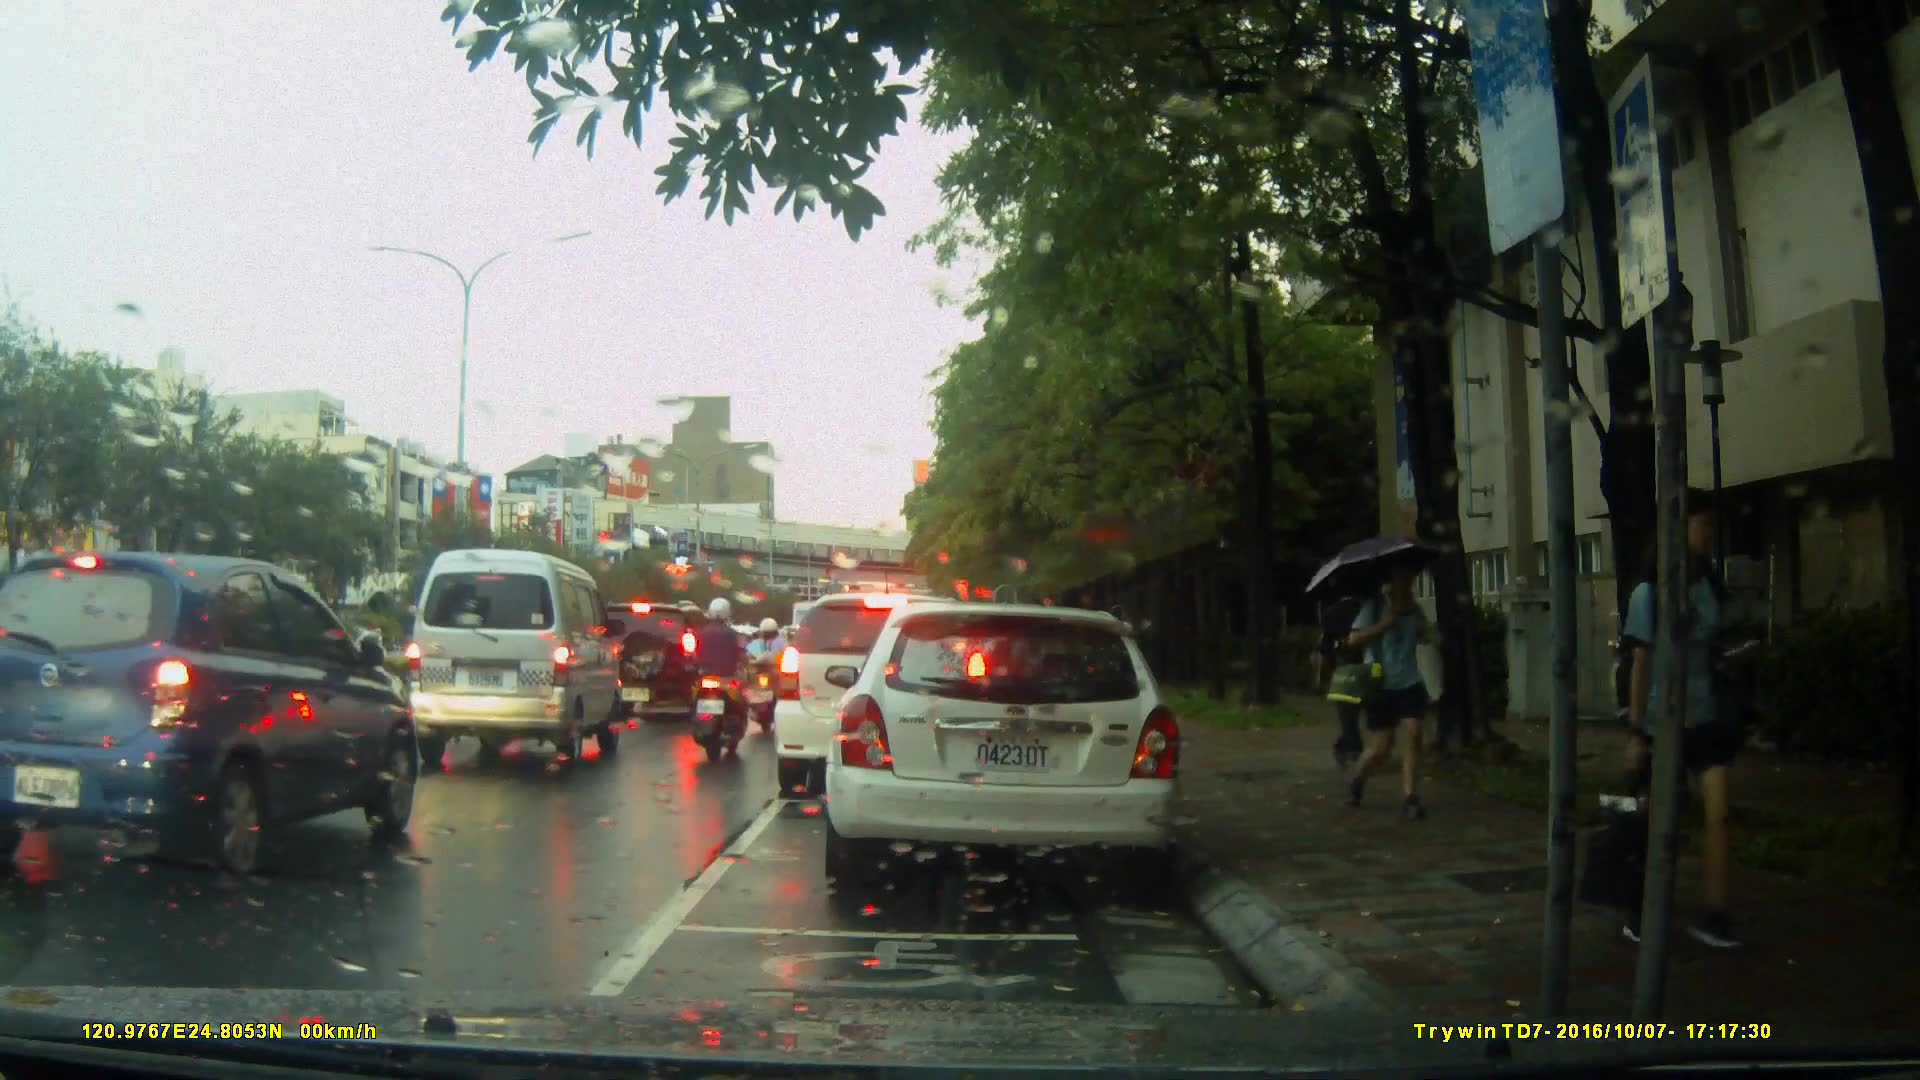pedestrian: (1618, 484, 1759, 972), (1345, 545, 1452, 828), (1313, 568, 1387, 782)
rider: (687, 591, 756, 771), (743, 619, 790, 740)
vehicle: (1, 549, 426, 885), (815, 593, 1204, 909), (403, 548, 627, 769), (770, 590, 993, 802), (584, 604, 737, 725)
